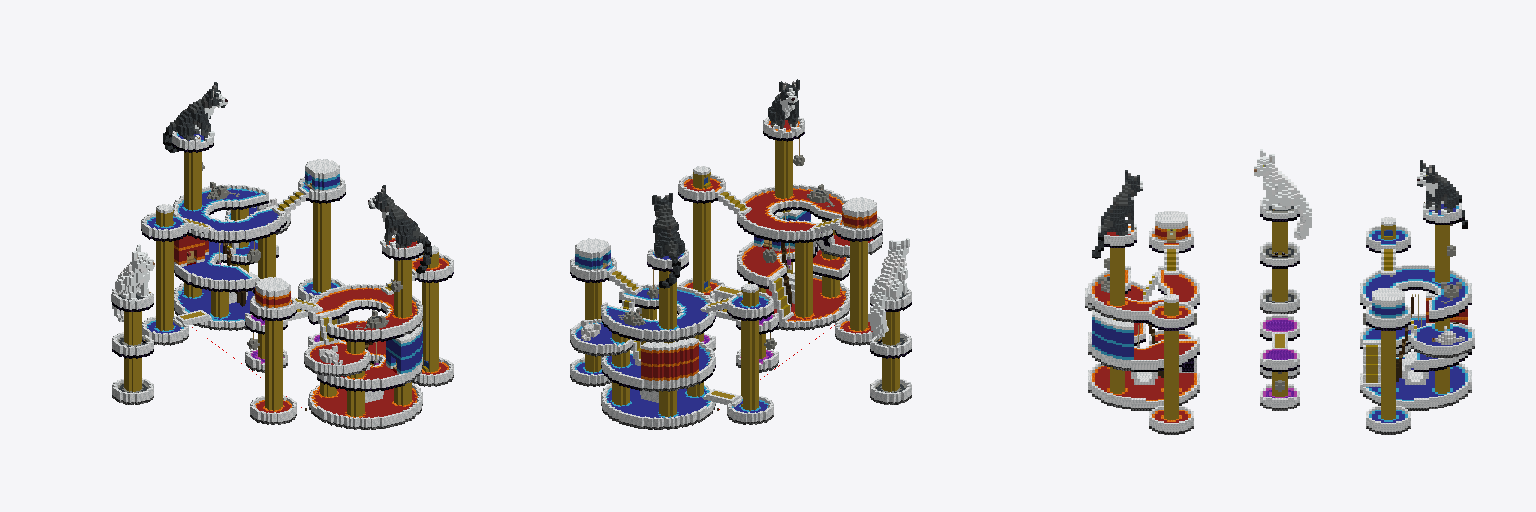
3 renders of one model, left to right at view 1: azimuth 30°, elevation 25°; view 2: azimuth 150°, elevation 25°; view 3: azimuth 270°, elevation 25°, orthographic.
Bounding box in the file's own units: 107 × 81 × 129.
Materials: 56 (16 with a texture image).